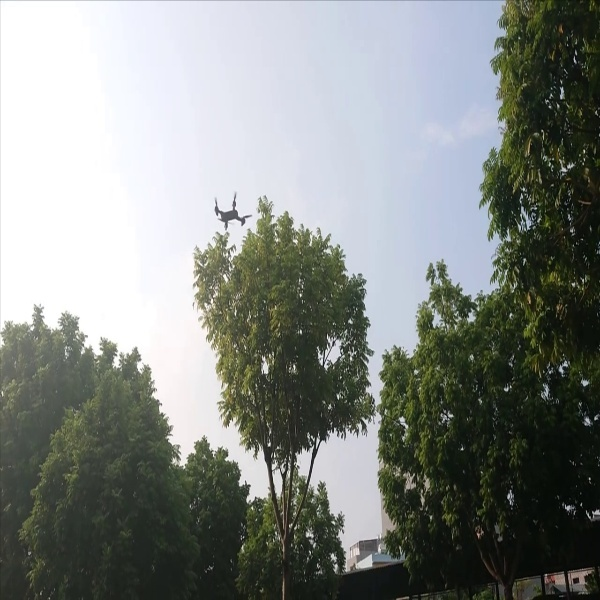drone: (205, 192, 253, 234)
